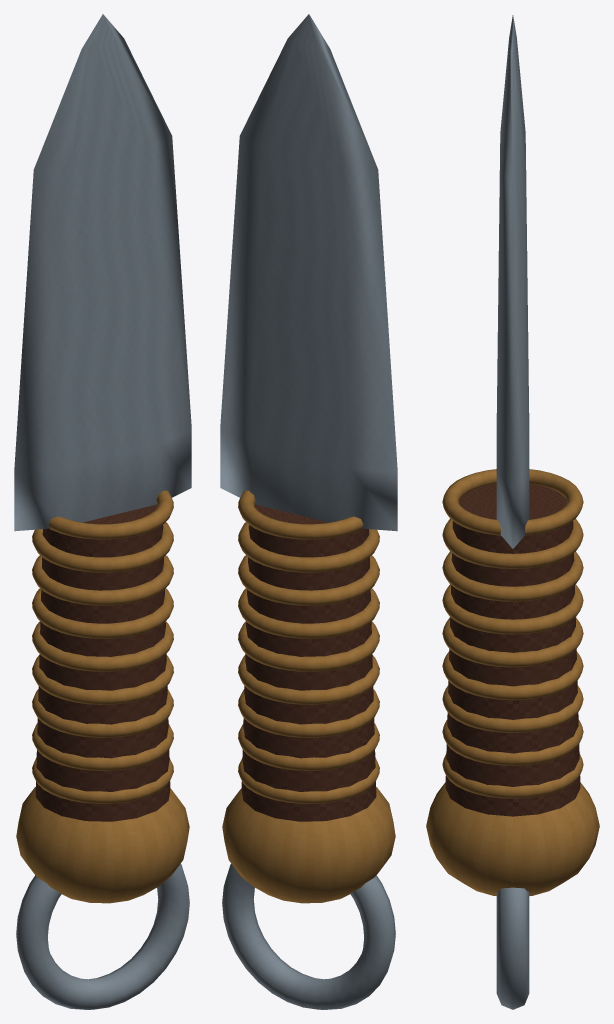
Rendered from kunai.lod1.glb.
3 renders of one model, left to right at view 1: azimuth 30°, elevation 25°; view 2: azimuth 150°, elevation 25°; view 3: azimuth 270°, elevation 25°, orthographic.
Parts seen in each view (by area): view 1: blade, leather.0, brass.10, steel.11, brass.8, brass.7, brass.6, brass.5, brass.4, brass.9, brass.3, brass.2 (+1 smaller); view 2: blade, leather.0, brass.10, steel.11, brass.8, brass.7, brass.6, brass.5, brass.4, brass.9, brass.3, brass.2 (+1 smaller); view 3: leather.0, blade, brass.10, steel.11, brass.9, brass.8, brass.7, brass.6, brass.5, brass.4, brass.3, brass.2 (+1 smaller).
Part boxes in pixels (x1,y1,x2,y2): blade: (14, 14, 191, 531); leather.0: (35, 504, 170, 821); brass.10: (16, 787, 189, 903); steel.11: (16, 863, 189, 1009); brass.8: (32, 522, 173, 572); brass.7: (32, 555, 173, 605); brass.6: (32, 588, 173, 638); brass.5: (32, 621, 173, 671); brass.4: (32, 655, 173, 704); brass.9: (48, 490, 173, 539); brass.3: (32, 689, 173, 737); brass.2: (32, 723, 173, 770); blade: (220, 14, 397, 531); leather.0: (241, 504, 376, 821); brass.10: (222, 787, 395, 903); steel.11: (222, 863, 395, 1009); brass.8: (238, 522, 379, 572); brass.7: (238, 555, 379, 605); brass.6: (238, 588, 379, 638); brass.5: (238, 621, 379, 671); brass.4: (238, 655, 379, 704); brass.9: (238, 490, 363, 539); brass.3: (238, 689, 379, 737); brass.2: (238, 723, 379, 770); leather.0: (445, 483, 580, 816); blade: (496, 15, 529, 548); brass.10: (426, 782, 599, 895); steel.11: (496, 887, 529, 1009); brass.9: (442, 469, 583, 535); brass.8: (442, 519, 583, 568); brass.7: (442, 551, 583, 601); brass.6: (442, 584, 583, 634); brass.5: (442, 617, 583, 667); brass.4: (442, 651, 583, 700); brass.3: (442, 685, 583, 732); brass.2: (442, 720, 583, 765).
Bounding box in the file's own units: 0.075 × 0.401 × 0.064.
3 materials, 3 textured.
